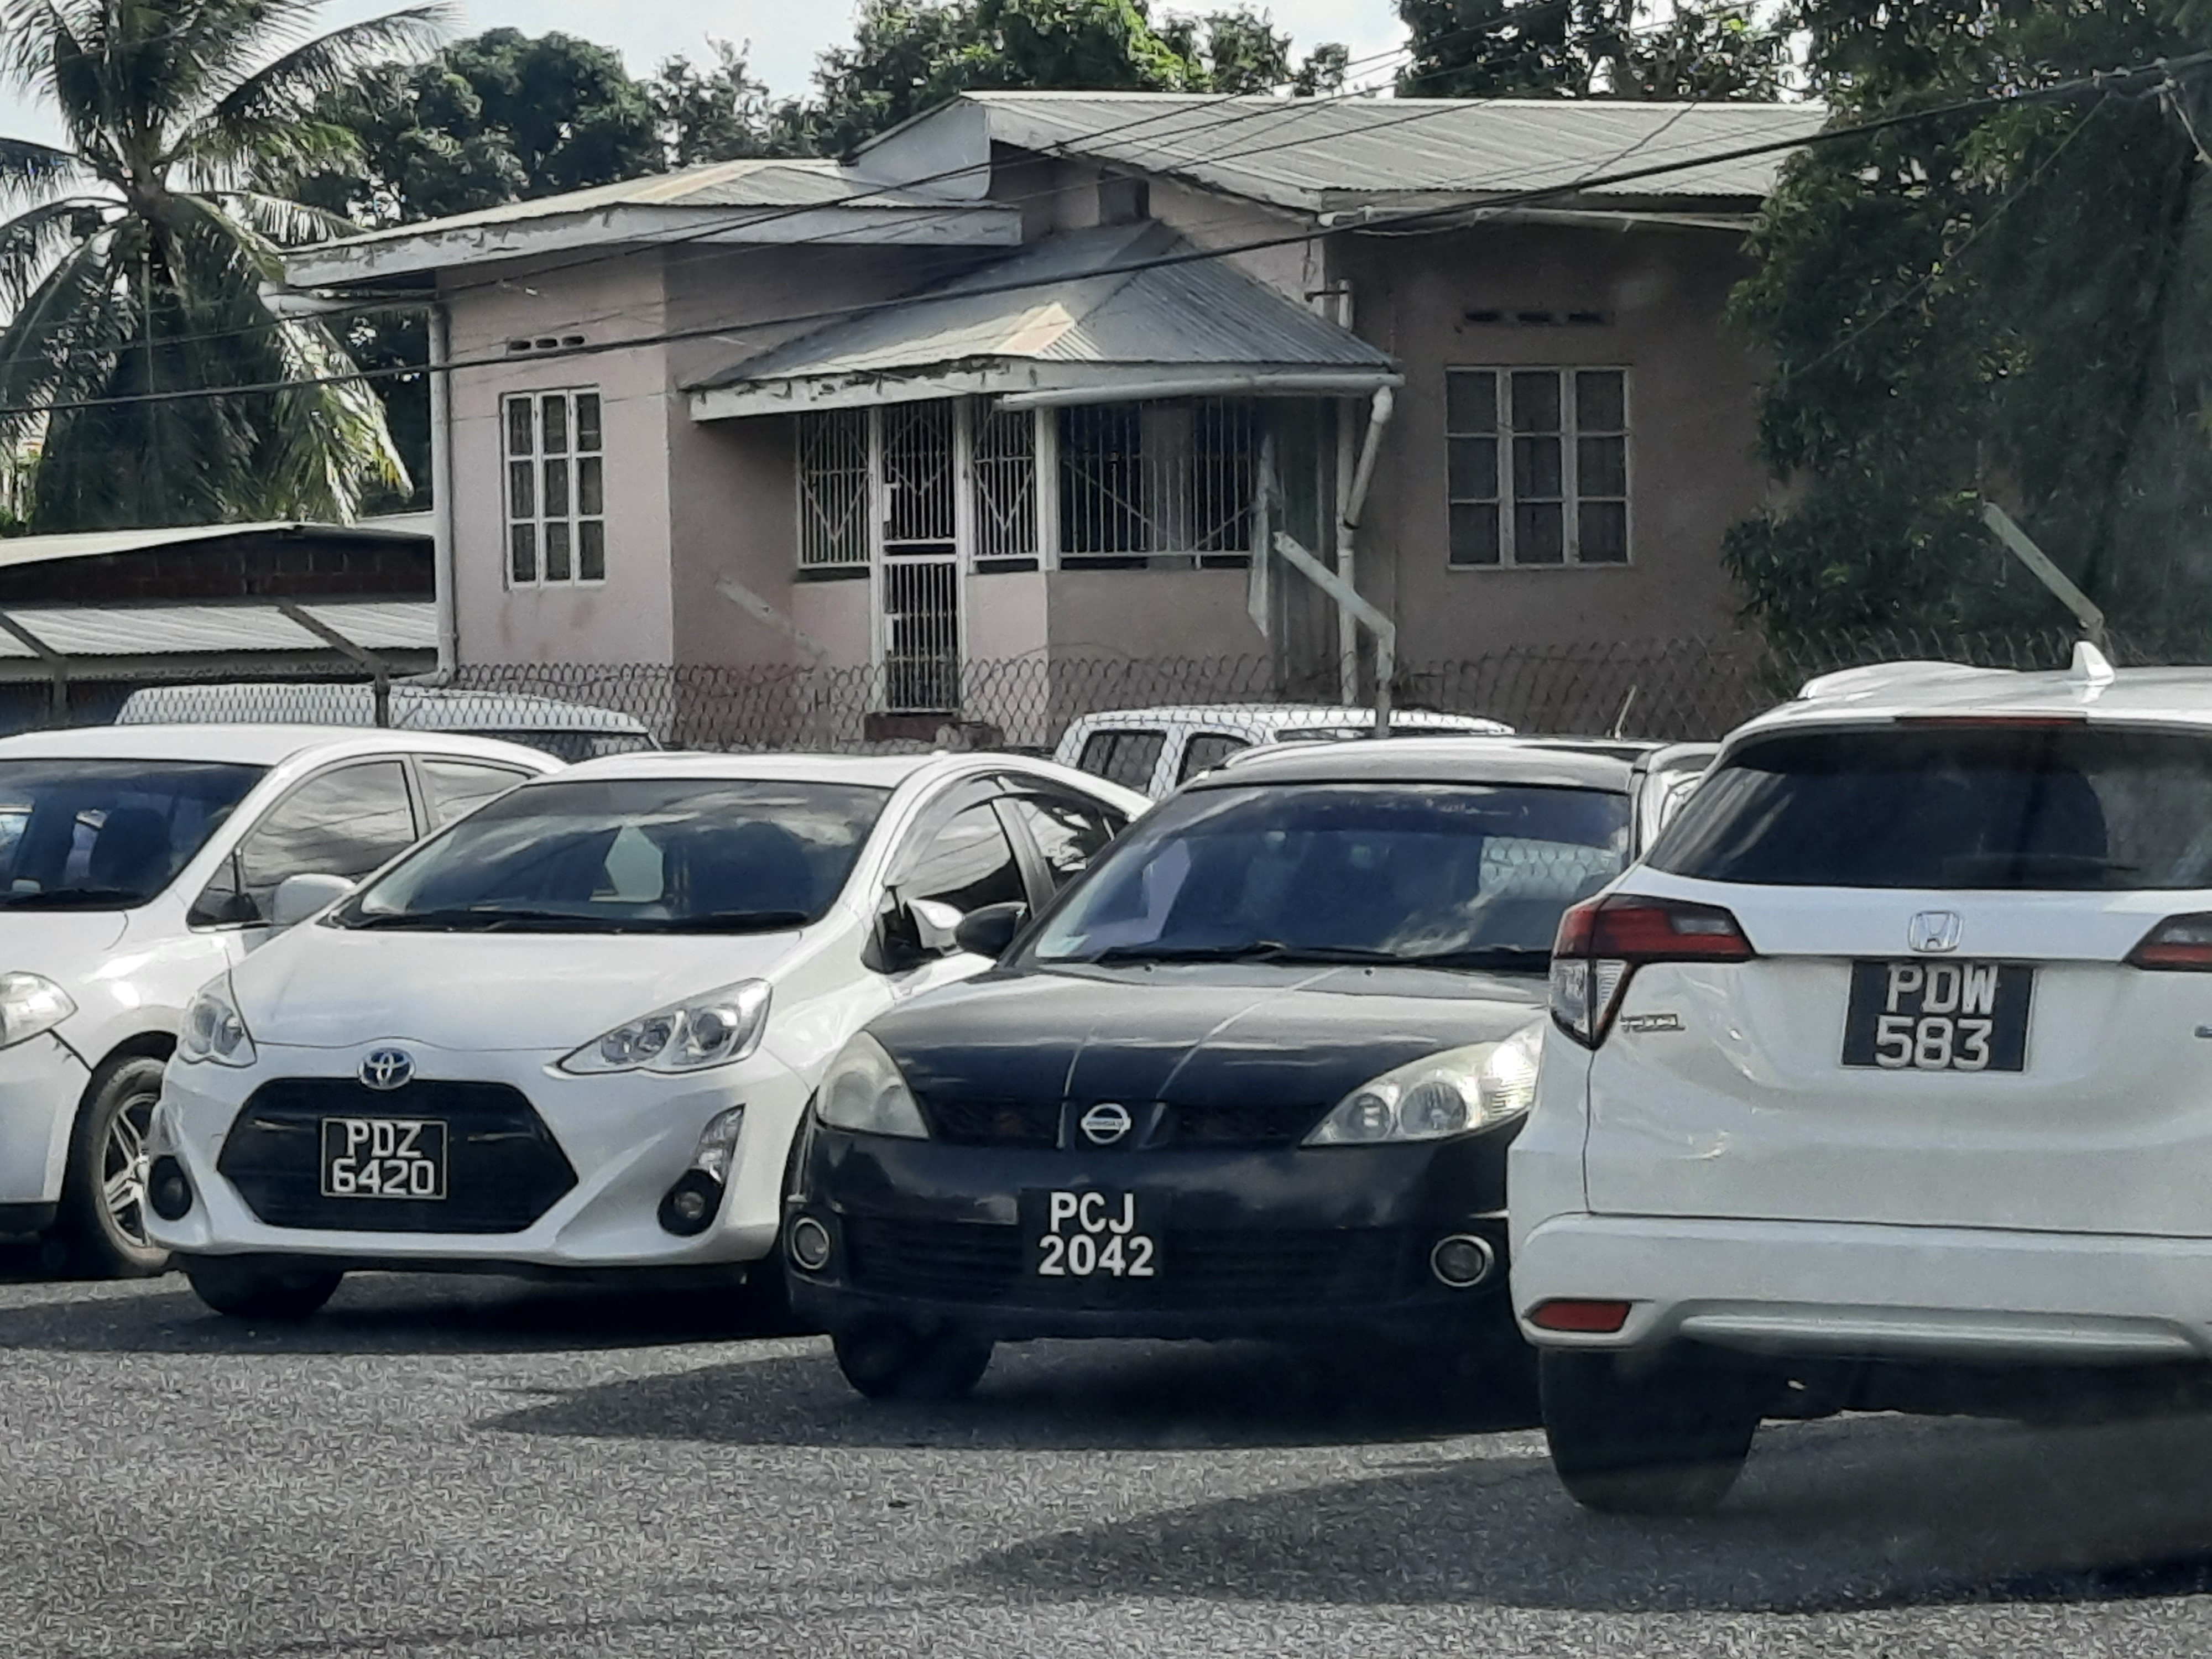License-Plate: (1852, 954, 2028, 1068), (1024, 1187, 1163, 1277), (326, 1116, 448, 1193)
